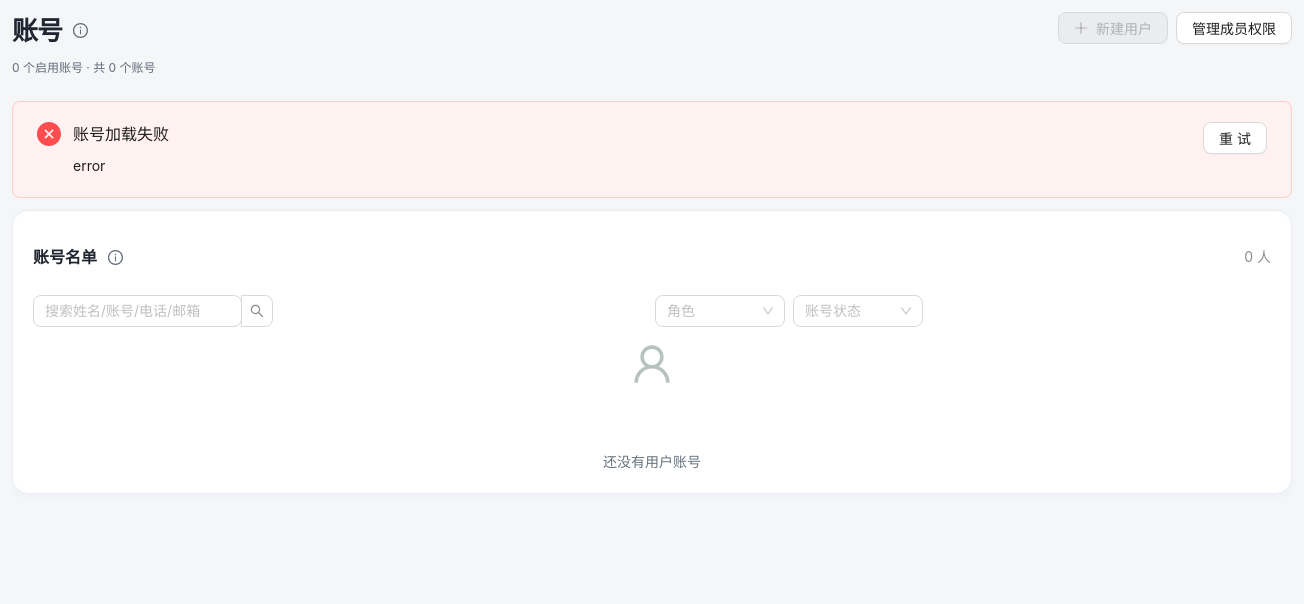
it: shows load failure and blocks writes until a successful retry
Check: the text "账号加载失败" is shown, box [73,124,169,144]
Check: the button "新建用户" is disabled, box [1058,12,1168,44]
Click the button "重 试".
click(1235, 138)  # box [1203,122,1267,154]
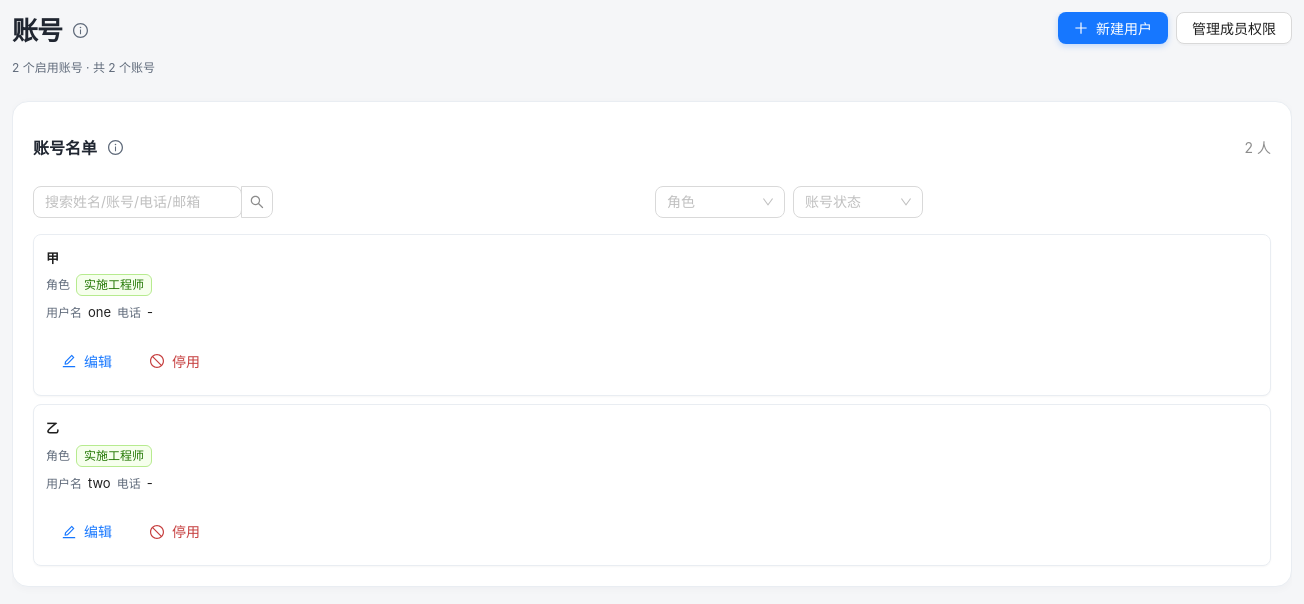
Check: the text "账号加载失败" is gone
Check: the button "新建用户" is enabled, box [1058,12,1168,44]
